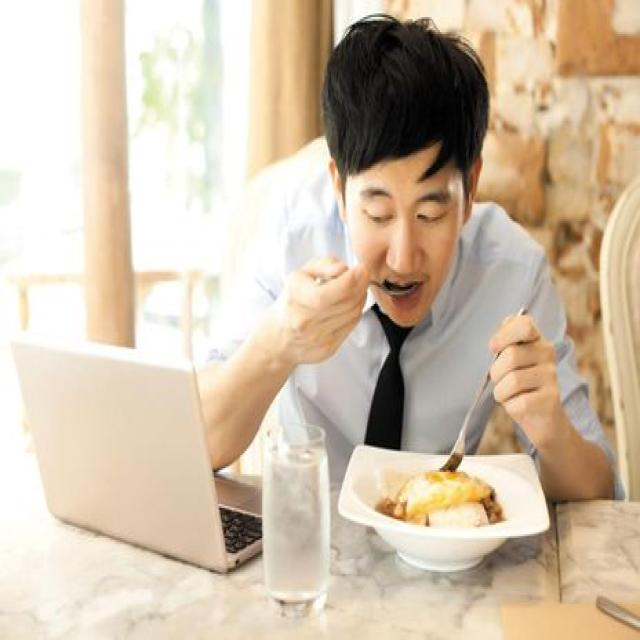eating-person: (205, 3, 608, 575)
